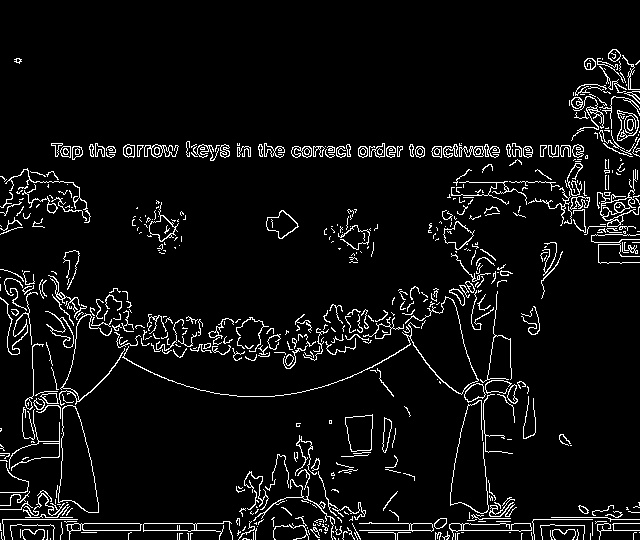left: (334, 217, 383, 262)
right: (255, 204, 305, 251), (433, 211, 480, 259), (144, 209, 188, 251)
